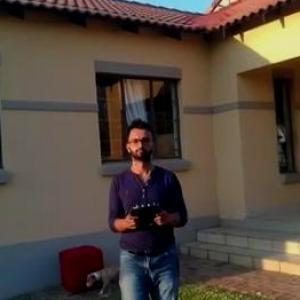follow: (102, 112, 196, 299)
null: (84, 256, 122, 298)
